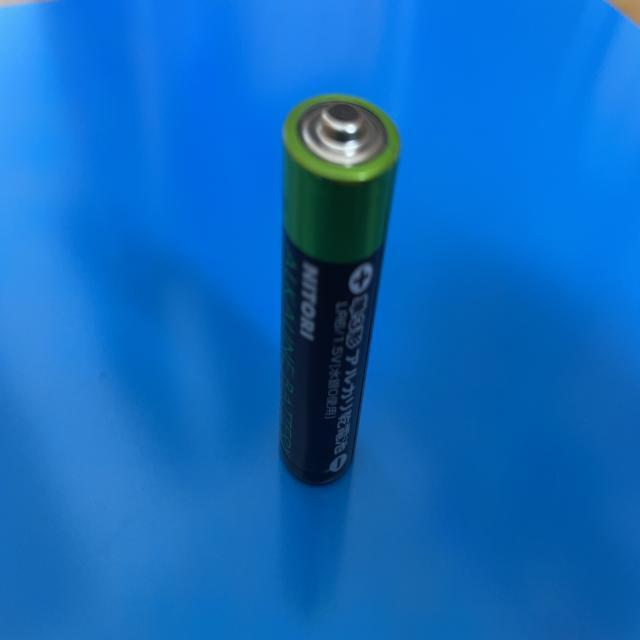hazardous waste: (278, 92, 399, 492)
